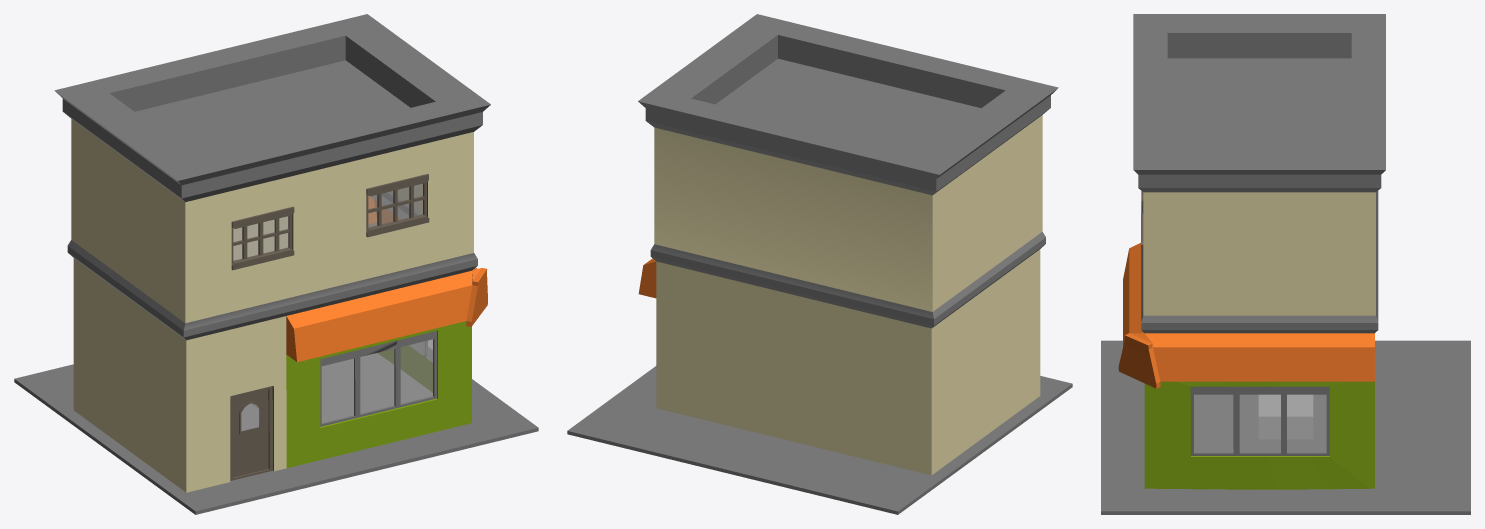
File: commercial1.fbx
3 renders of one model, left to right at view 1: azimuth 30°, elevation 25°; view 2: azimuth 150°, elevation 25°; view 3: azimuth 270°, elevation 25°, orthographic. The views are drawn at different scales.
Parts seen in each view (by area): view 1: Cube.001; view 2: Cube.001; view 3: Cube.001, Cube.
Boxes of the visible parts, left/top/right/bottom form: Cube.001: left=14, top=14, right=538, bottom=514; Cube.001: left=567, top=14, right=1072, bottom=514; Cube.001: left=1101, top=14, right=1470, bottom=514; Cube: left=1258, top=394, right=1313, bottom=439.
Bounding box in the file's own units: 1490 × 1426 × 1357.
